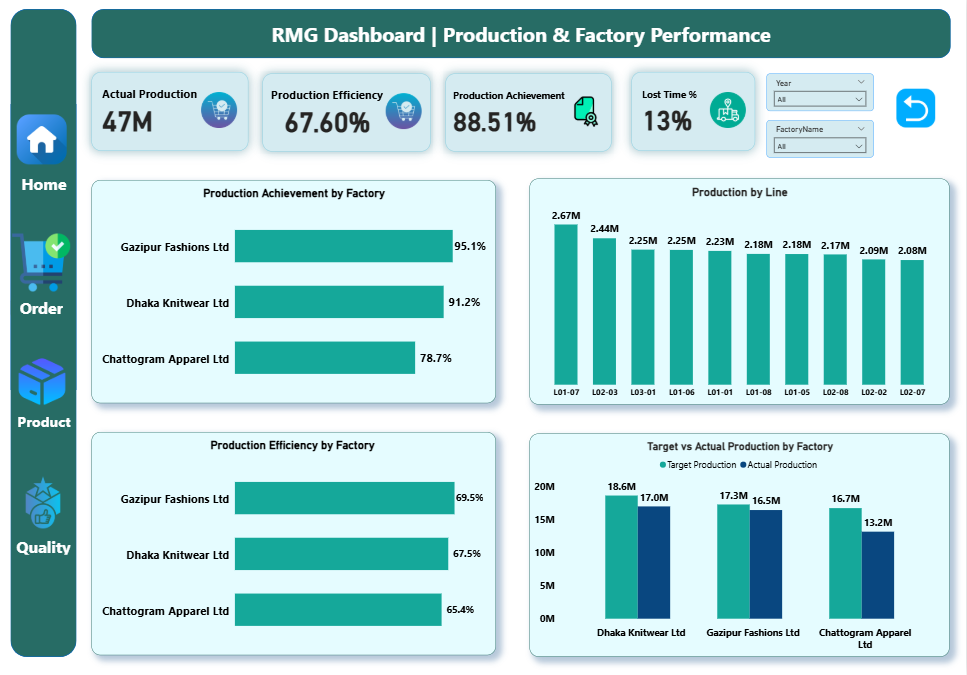

Layout of this report page (visuals, bound fields, positions):
{"tool":"powerbi","page":{"name":"Product","canvas":[1610,1130],"ordinal":2},"visuals":[{"type":"cardVisual","fields":{"Data":["Measure.Actual Production"]},"box":[152.9,125.7,261.4,131.4],"z":0},{"type":"cardVisual","fields":{"Data":["Measure.Lost Time %"]},"box":[1051.4,124.3,205.7,131.4],"z":1000},{"type":"cardVisual","fields":{"Data":["Measure.Production Efficiency %"]},"box":[437.1,127.1,280,130],"z":2000},{"type":"cardVisual","fields":{"Data":["Measure.Production Achievement %"]},"box":[743.3,127.8,276.7,130],"z":3000},{"type":"shape","box":[152,20,1432,82],"z":4000},{"type":"shape","box":[17.5,20,110,1080],"z":5000},{"type":"clusteredColumnChart","title":"Production by Line","fields":{"Category":["dim_line.LineName"],"Y":["Measure.Actual Production"]},"box":[881.7,303.3,700,376.7],"z":6000},{"type":"clusteredBarChart","title":"Production Efficiency by Factory","fields":{"Category":["dim_factory.FactoryName"],"Y":["Measure.Production Efficiency %"]},"box":[152,726,674,372],"z":7000},{"type":"clusteredColumnChart","title":"Target vs Actual Production by Factory","fields":{"Category":["dim_factory.FactoryName"],"Y":["Sum(fact_production_daily.TargetQty)","Measure.Actual Production"]},"box":[881.7,726.7,700,371.7],"z":8000},{"type":"slicer","fields":{"Values":["dim_date.Year"]},"box":[1276.2,126.2,178.8,62.5],"z":9000},{"type":"slicer","fields":{"Values":["dim_factory.FactoryName"]},"box":[1276.2,205,178.8,62.5],"z":10000},{"type":"image","box":[1478.8,146.2,92.5,75],"z":11000},{"type":"clusteredBarChart","title":"Production Achievement by Factory","fields":{"Y":["Measure.Production Achievement %"],"Category":["dim_factory.FactoryName"]},"box":[152,304,674,372],"z":12000},{"type":"image","box":[23.3,185,93.3,105],"z":12001},{"type":"shape","box":[21.4,290,101.4,38.6],"z":12002},{"type":"shape","box":[18.6,498.6,102.9,40],"z":12003},{"type":"shape","box":[22.3,893.8,100,37.7],"z":12004},{"type":"shape","box":[22,688,102,38],"z":12005},{"type":"image","box":[15.7,388.6,107.1,110],"z":12006},{"type":"image","box":[20,591.4,100,97.1],"z":12007},{"type":"image","box":[20,790,102.9,104.3],"z":12008}]}

Visuals, with their boxes in screenshot pixels (x1, y1, x2, y2), scaled from the page's 1610x1130 canvas onto the 967x675 screenshot:
cardVisual - Measure.Actual Production: bbox(92, 75, 249, 154)
cardVisual - Measure.Lost Time %: bbox(631, 74, 755, 153)
cardVisual - Measure.Production Efficiency %: bbox(263, 76, 431, 154)
cardVisual - Measure.Production Achievement %: bbox(446, 76, 613, 154)
shape: bbox(91, 12, 951, 61)
shape: bbox(11, 12, 77, 657)
"Production by Line" clusteredColumnChart: bbox(530, 181, 950, 406)
"Production Efficiency by Factory" clusteredBarChart: bbox(91, 434, 496, 656)
"Target vs Actual Production by Factory" clusteredColumnChart: bbox(530, 434, 950, 656)
slicer - dim_date.Year: bbox(767, 75, 874, 113)
slicer - dim_factory.FactoryName: bbox(767, 122, 874, 160)
image: bbox(888, 87, 944, 132)
"Production Achievement by Factory" clusteredBarChart: bbox(91, 182, 496, 404)
image: bbox(14, 111, 70, 173)
shape: bbox(13, 173, 74, 196)
shape: bbox(11, 298, 73, 322)
shape: bbox(13, 534, 73, 556)
shape: bbox(13, 411, 74, 434)
image: bbox(9, 232, 74, 298)
image: bbox(12, 353, 72, 411)
image: bbox(12, 472, 74, 534)
